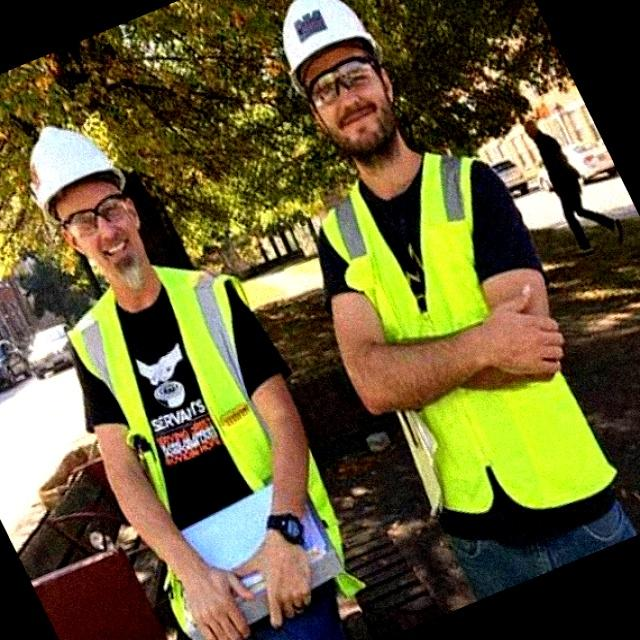Capacete: (283, 0, 380, 94), (30, 126, 124, 213)
Colete: (323, 153, 489, 342), (155, 267, 271, 490)
Oculos: (309, 58, 374, 107), (61, 194, 127, 236)
